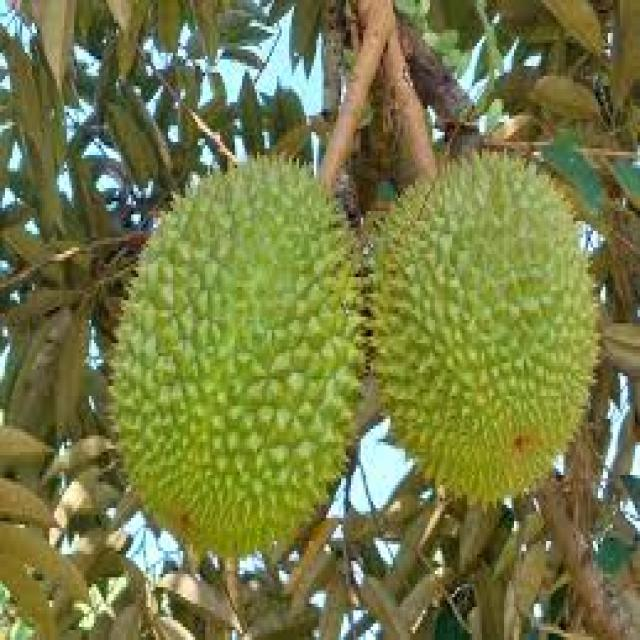immature: (109, 152, 382, 567), (359, 142, 600, 506)
